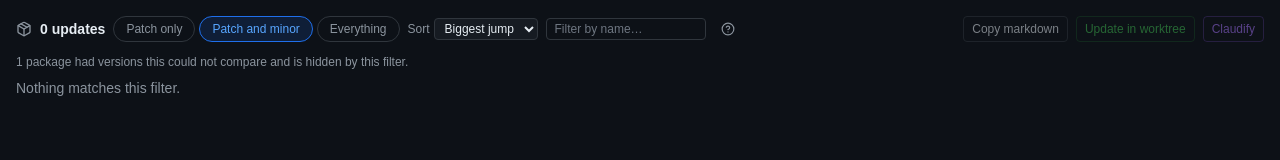
Test: PackagesPage › shows uncomparable packages under Everything
Click the button "Everything": (358, 29) x1=317 y1=16 x2=400 y2=42
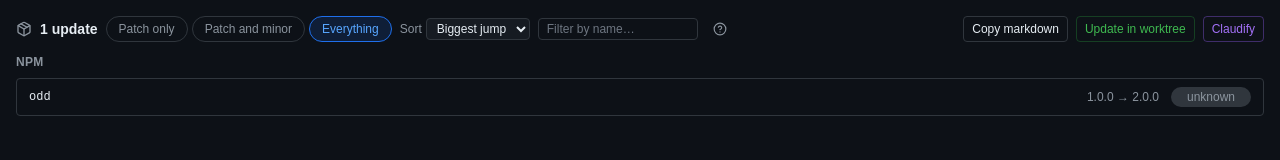
Expected: the text "odd" is shown, x1=29 y1=90 x2=51 y2=104
